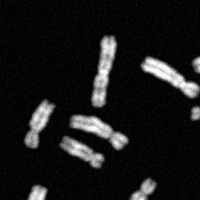chromosome: (140, 58, 200, 98), (70, 114, 126, 149), (91, 38, 116, 108), (59, 135, 104, 168), (24, 98, 54, 147), (121, 176, 158, 200), (20, 182, 46, 200), (192, 28, 200, 72), (191, 102, 200, 123)
